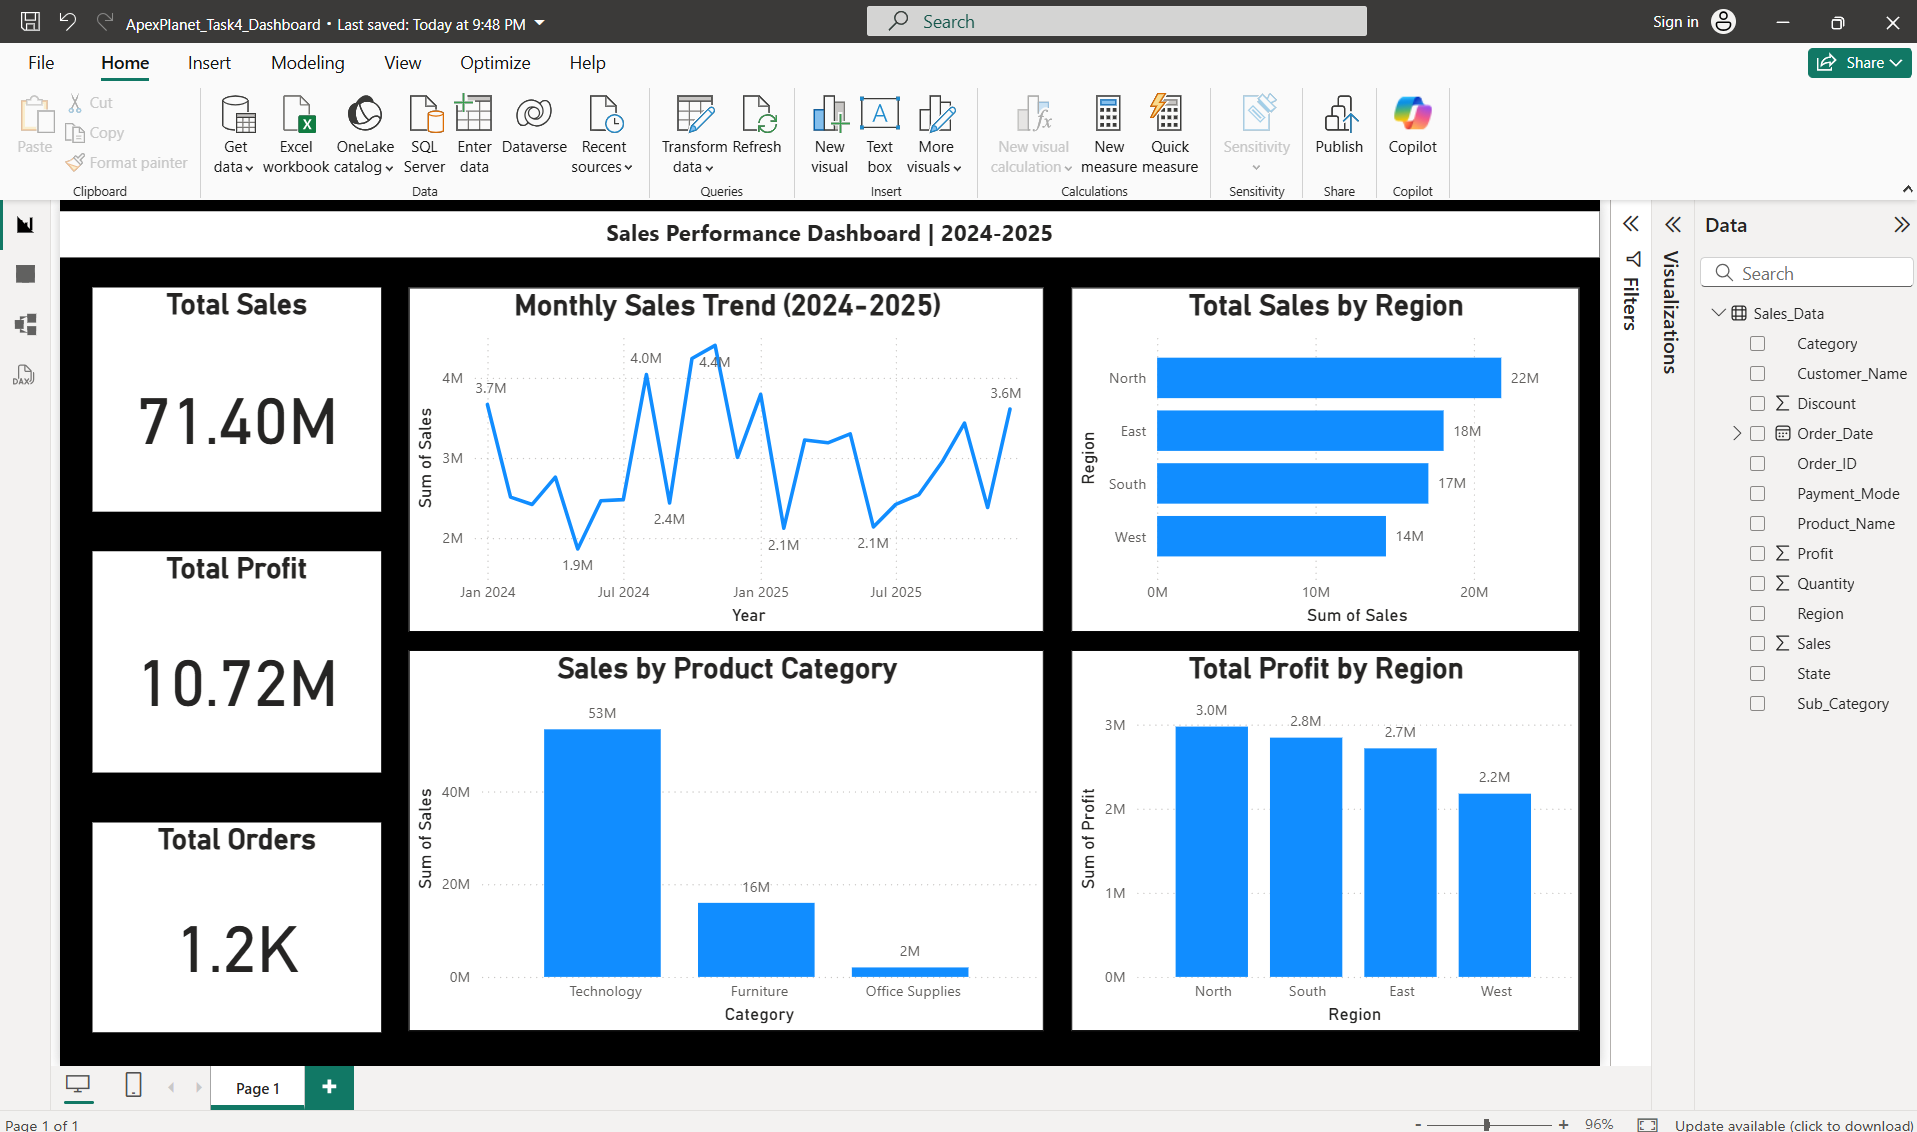

The page's visual inventory and layout, read from the dashboard file:
{"tool":"powerbi","page":{"name":"Page 1","canvas":[1280,720],"ordinal":0},"visuals":[{"type":"clusteredBarChart","title":"Total  Sales by Region","fields":{"Category":["Sales_Data.Region"],"Y":["Sum(Sales_Data.Sales)"]},"box":[841.2,72.7,422.6,286.8],"z":0},{"type":"clusteredColumnChart","title":" Sales by  Product Category","fields":{"Category":["Sales_Data.Category"],"Y":["Sum(Sales_Data.Sales)"]},"box":[289.5,374.6,528.3,317],"z":1000},{"type":"lineChart","title":"Monthly Sales Trend (2024-2025)","fields":{"Y":["Sum(Sales_Data.Sales)"],"Category":["Sales_Data.Order_Date.Variation.Date Hierarchy.Year","Sales_Data.Order_Date.Variation.Date Hierarchy.Month"]},"box":[289.5,72.7,528.3,286.8],"z":2000},{"type":"clusteredColumnChart","title":"Total Profit by Region","fields":{"Category":["Sales_Data.Region"],"Y":["Sum(Sales_Data.Profit)"]},"box":[841.2,374.6,422.6,317],"z":3000},{"type":"cardVisual","title":"Total Sales","fields":{"Data":["Sum(Sales_Data.Sales)"]},"box":[27.4,72.7,240.1,186.6],"z":4000},{"type":"cardVisual","title":"Total Profit","fields":{"Data":["Sum(Sales_Data.Profit)"]},"box":[27.4,292.3,240.1,183.9],"z":5000},{"type":"cardVisual","title":"Total Orders","fields":{"Data":["CountNonNull(Sales_Data.Order_ID)"]},"box":[27.4,517.3,240.1,174.3],"z":6000},{"type":"textbox","box":[0,9.6,1280.3,38.4],"z":7000}]}

Visuals, with their boxes on the page's 1280x720 design canvas (x1, y1, x2, y2). These are canvas units, not pixel positions in the 1917x1132 screenshot, which may show the page scaled, cropped or inside an application window:
"Total  Sales by Region" clusteredBarChart: bbox=[841, 73, 1264, 360]
" Sales by  Product Category" clusteredColumnChart: bbox=[290, 375, 818, 692]
"Monthly Sales Trend (2024-2025)" lineChart: bbox=[290, 73, 818, 360]
"Total Profit by Region" clusteredColumnChart: bbox=[841, 375, 1264, 692]
"Total Sales" cardVisual: bbox=[27, 73, 268, 259]
"Total Profit" cardVisual: bbox=[27, 292, 268, 476]
"Total Orders" cardVisual: bbox=[27, 517, 268, 692]
textbox: bbox=[0, 10, 1280, 48]
